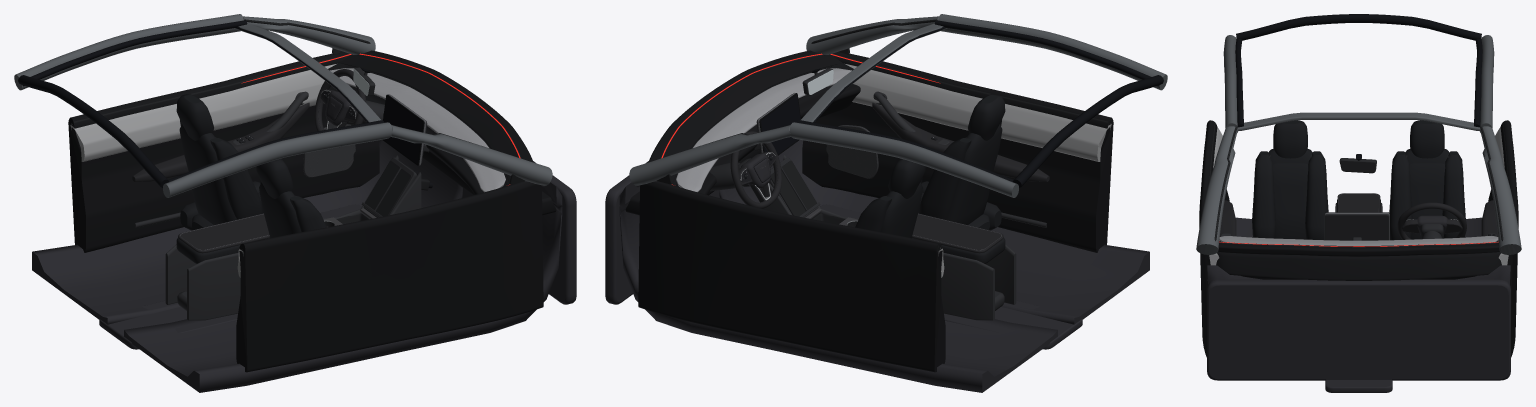
Rendered from cabin.glb.
3 views of the same model, side by side, from view 1: azimuth 30°, elevation 25°; view 2: azimuth 150°, elevation 25°; view 3: azimuth 270°, elevation 25° (orthographic). The views are drawn at different scales.
Parts seen in each view (by area): view 1: door_card_right, carpet_and_footwells, door_card_left, headliner_and_roof_reveal, centre_console, dash_shell, driver_seat, windshield_frame, passenger_seat, steering_wheel, screen_surface; view 2: door_card_left, door_card_right, carpet_and_footwells, headliner_and_roof_reveal, dash_shell, centre_console, passenger_seat, windshield_frame, driver_seat, steering_wheel, screen_surface, mirror_housing (+1 smaller); view 3: carpet_and_footwells, dash_shell, headliner_and_roof_reveal, passenger_seat, driver_seat, windshield_frame, door_card_left, door_card_right, screen_bezel, steering_wheel, centre_console, mirror_housing (+2 smaller).
Part boxes in pixels (bbox=[...]): door_card_right: bbox=[236, 181, 543, 372]; carpet_and_footwells: bbox=[32, 139, 576, 392]; door_card_left: bbox=[68, 52, 379, 252]; headliner_and_roof_reveal: bbox=[14, 14, 392, 197]; centre_console: bbox=[165, 155, 421, 320]; dash_shell: bbox=[328, 50, 533, 194]; driver_seat: bbox=[176, 94, 263, 230]; windshield_frame: bbox=[243, 16, 552, 185]; passenger_seat: bbox=[256, 158, 326, 238]; steering_wheel: bbox=[314, 69, 365, 147]; screen_surface: bbox=[383, 96, 422, 163]; door_card_left: bbox=[638, 181, 945, 372]; door_card_right: bbox=[802, 52, 1113, 252]; carpet_and_footwells: bbox=[605, 139, 1149, 392]; headliner_and_roof_reveal: bbox=[789, 14, 1167, 197]; dash_shell: bbox=[648, 50, 860, 194]; centre_console: bbox=[760, 155, 1016, 320]; passenger_seat: bbox=[918, 94, 1005, 230]; windshield_frame: bbox=[629, 16, 938, 185]; driver_seat: bbox=[855, 158, 925, 238]; steering_wheel: bbox=[730, 131, 781, 208]; screen_surface: bbox=[761, 95, 800, 154]; mirror_housing: bbox=[802, 68, 833, 95]; carpet_and_footwells: bbox=[1207, 217, 1510, 392]; dash_shell: bbox=[1216, 236, 1501, 280]; headliner_and_roof_reveal: bbox=[1223, 14, 1494, 132]; passenger_seat: bbox=[1252, 120, 1328, 240]; driver_seat: bbox=[1389, 120, 1465, 240]; windshield_frame: bbox=[1196, 126, 1521, 254]; door_card_left: bbox=[1481, 120, 1518, 357]; door_card_right: bbox=[1199, 120, 1236, 357]; screen_bezel: bbox=[1324, 212, 1389, 240]; steering_wheel: bbox=[1397, 202, 1466, 239]; centre_console: bbox=[1335, 193, 1382, 212]; mirror_housing: bbox=[1339, 154, 1376, 173].
Bounding box in the file's own units: 2.24 × 1.21 × 1.74.
28 materials, 2 textured.
